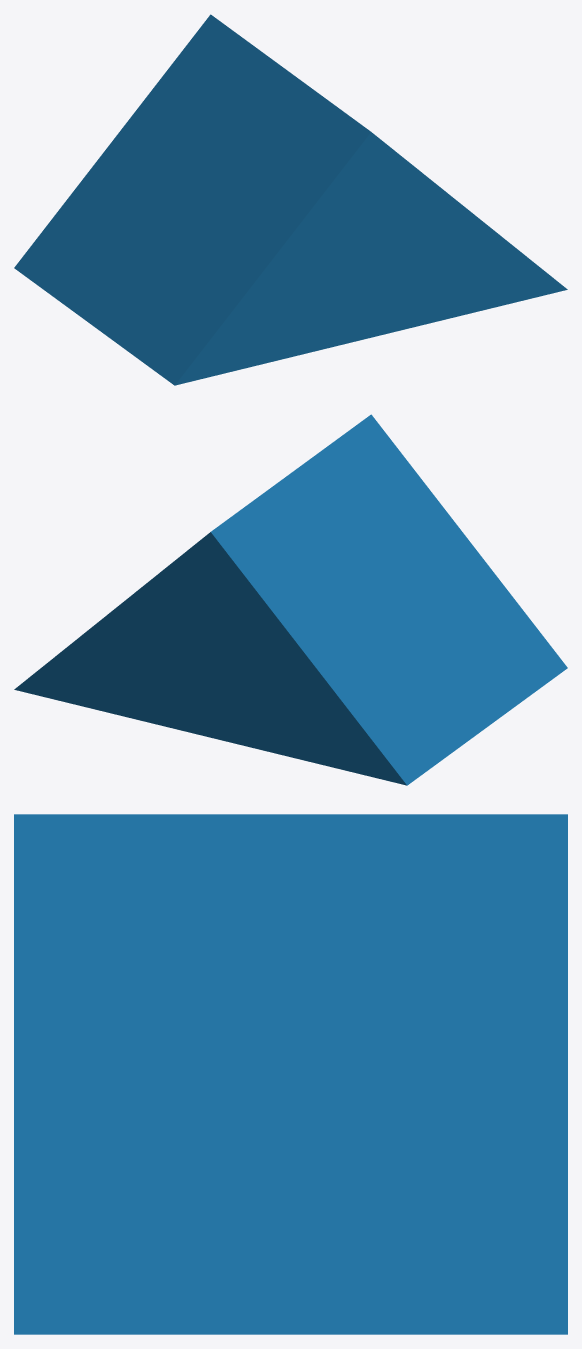
3 renders of one model, top to bottom at view 1: azimuth 30°, elevation 25°; view 2: azimuth 150°, elevation 25°; view 3: azimuth 270°, elevation 25°, orthographic. The views are drawn at different scales.
Parts seen in each view (by area): view 1: Cube; view 2: Cube; view 3: Cube.
Boxes of the visible parts, box(x1,y1,x2,y2) form: Cube: box(14, 14, 567, 385); Cube: box(14, 414, 567, 785); Cube: box(14, 814, 567, 1334).
Bounding box in the file's own units: 283 × 141 × 200.
